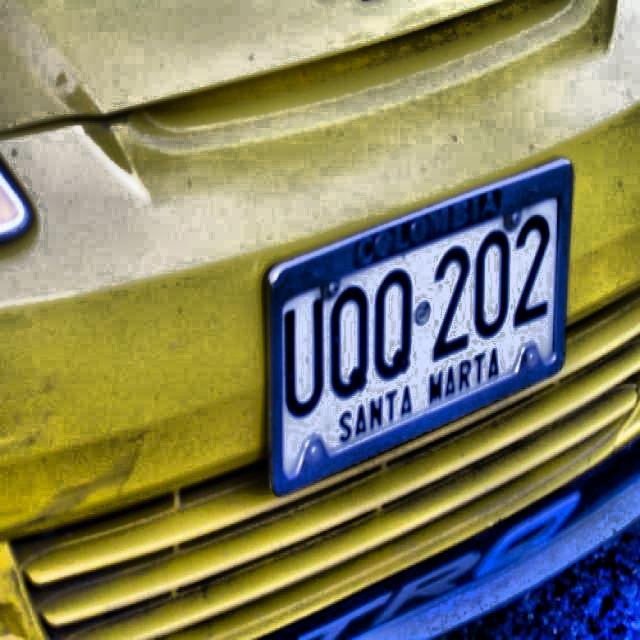plate: (276, 170, 567, 489)
